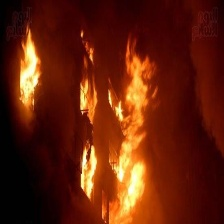fire: (108, 32, 152, 214), (15, 23, 45, 115), (75, 36, 102, 128), (79, 142, 100, 198)
smoke: (156, 3, 219, 219)
